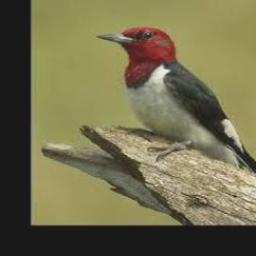Woodpecker: (96, 26, 256, 174)
